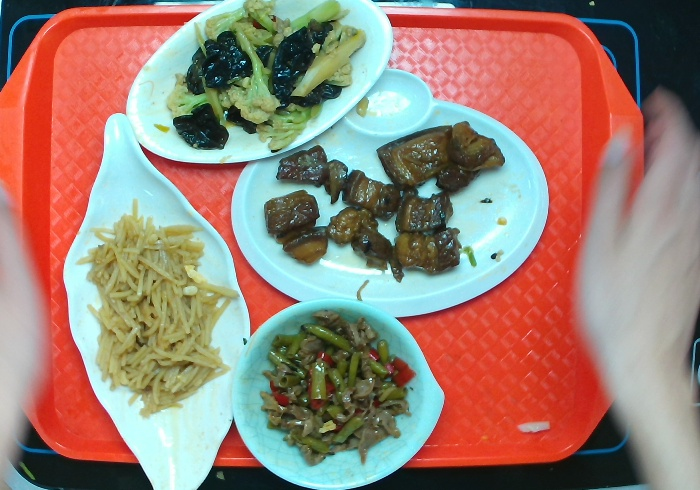RJxy-Bai_Se_Tuo_Yuan: (124, 1, 395, 166)
RJxy-Shu_Ye_Pan: (61, 110, 252, 489)
RJxy-Xiao_Jiao_Yuan_Wan: (230, 295, 447, 490)
RJxy-Zhan_Liao_Pan: (229, 67, 551, 319)
